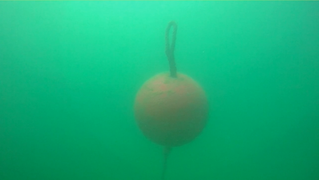buoy: (133, 72, 210, 148)
